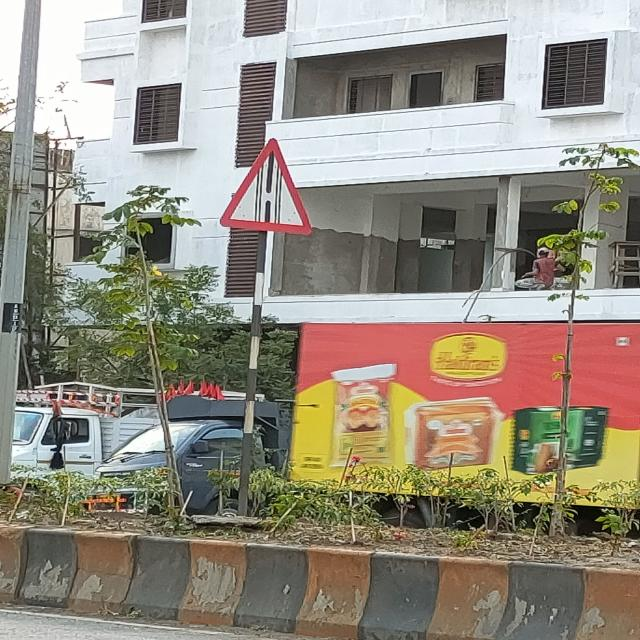GAP_IN_MEDIAN: (219, 132, 311, 240)
